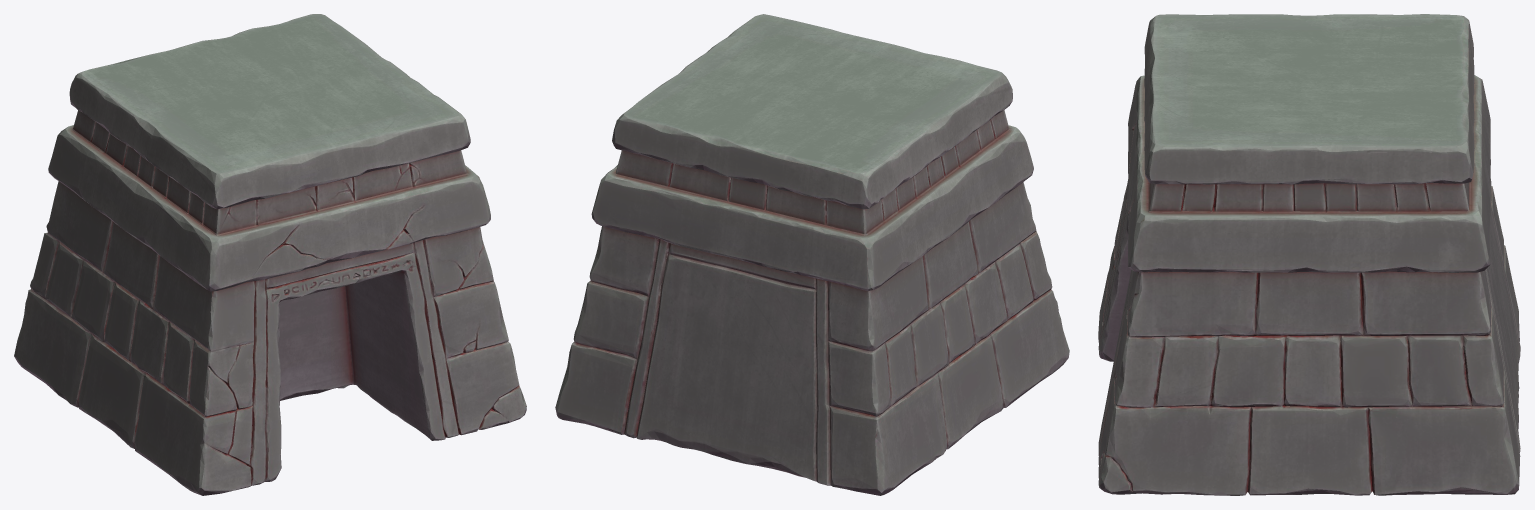
Rendered from stone_cave.fbx.
3 views of the same model, side by side, from view 1: azimuth 30°, elevation 25°; view 2: azimuth 150°, elevation 25°; view 3: azimuth 270°, elevation 25° (orthographic). The views are drawn at different scales.
Parts seen in each view (by area): view 1: Cube_003; view 2: Cube_003; view 3: Cube_003.
Part boxes in pixels (x1,y1,x2,y2): Cube_003: (14, 14, 526, 495); Cube_003: (555, 14, 1069, 495); Cube_003: (1098, 14, 1520, 495).
Bounding box in the file's own units: 200 × 171 × 200.
Materials: 1 (1 with a texture image).
